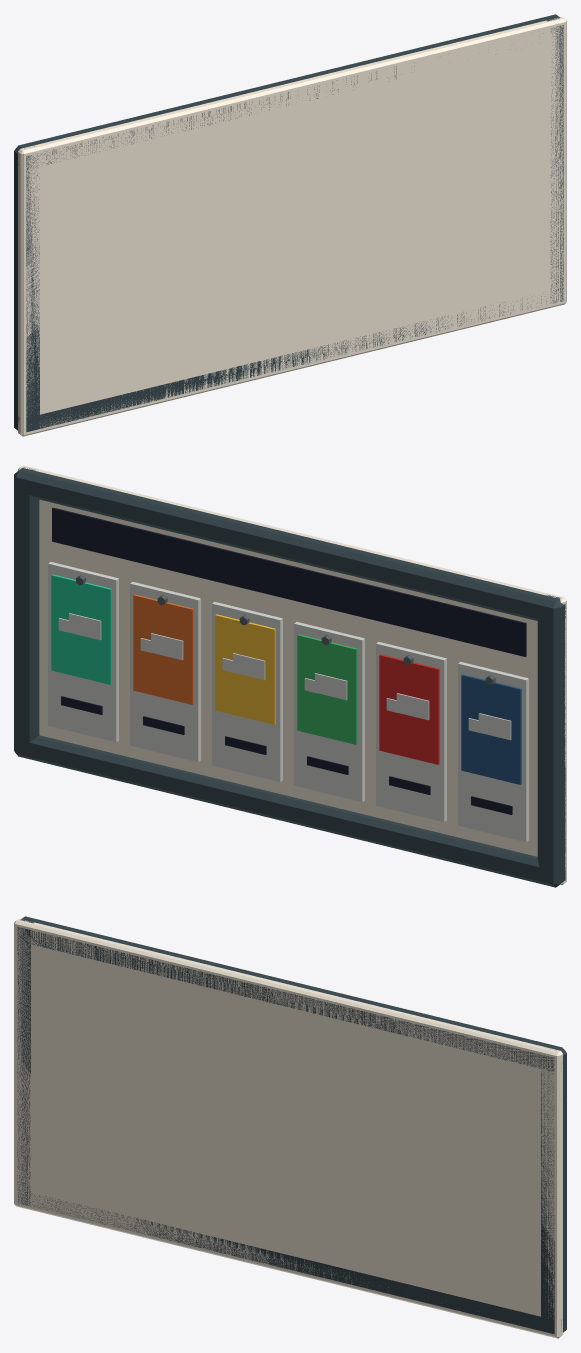
File: sm_env_depot_paint_swatch_board.glb
3 renders of one model, top to bottom at view 1: azimuth 30°, elevation 25°; view 2: azimuth 150°, elevation 25°; view 3: azimuth 330°, elevation 25°, orthographic.
Visible parts, largest first — view 1: Backing, Frame.002, Frame, Frame.003, Frame.001; view 2: Backing, Header, Frame.003, Frame.002, Frame, Frame.001, SwatchCard.002, SwatchCard, SwatchCard.001, SwatchCard.003, SwatchCard.004, SwatchCard.005 (+12 smaller); view 3: Backing, Frame.003, Frame.002, Frame.001, Frame.
Part boxes in pixels (<box>): Backing: <box>18,16,566,436</box>; Frame.002: <box>14,296,546,430</box>; Frame: <box>14,142,39,432</box>; Frame.003: <box>14,17,545,167</box>; Frame.001: <box>542,14,563,303</box>; Backing: <box>18,465,566,885</box>; Header: <box>52,507,526,656</box>; Frame.003: <box>14,471,565,622</box>; Frame.002: <box>14,735,565,887</box>; Frame: <box>537,594,565,887</box>; Frame.001: <box>14,467,39,759</box>; SwatchCard.002: <box>294,622,364,802</box>; SwatchCard: <box>458,661,528,842</box>; SwatchCard.001: <box>376,642,446,822</box>; SwatchCard.003: <box>212,602,282,782</box>; SwatchCard.004: <box>130,582,200,762</box>; SwatchCard.005: <box>48,562,118,742</box>; Backing: <box>14,918,562,1338</box>; Frame.003: <box>17,919,566,1071</box>; Frame.002: <box>18,1189,566,1334</box>; Frame.001: <box>541,1044,566,1333</box>; Frame: <box>17,916,38,1205</box>.
Bounding box in the file's own units: 1.2 × 0.6 × 0.041.
